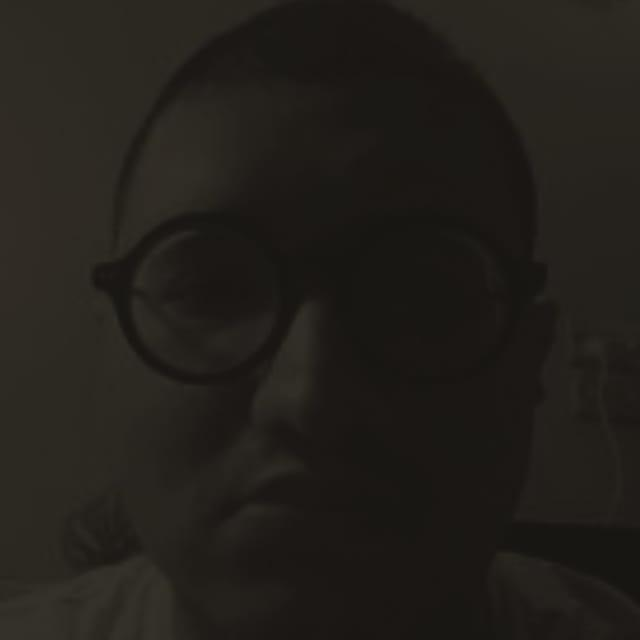Sad: (25, 118, 607, 640)
